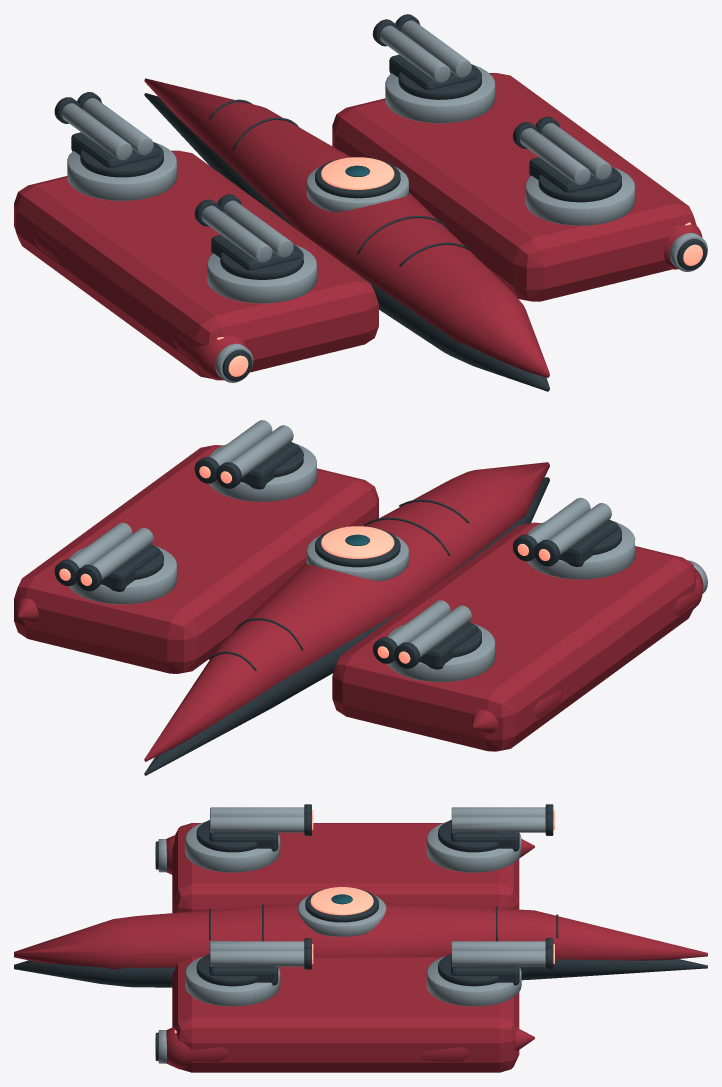
Rendered from boss-1.glb.
The picture shows the model from 3 angles, top to bottom: view 1: azimuth 30°, elevation 25°; view 2: azimuth 150°, elevation 25°; view 3: azimuth 270°, elevation 25°; orthographic projection. The views are drawn at different scales.
Parts seen in each view (by area): view 1: SM_Hull, SM_Weapon_Left, SM_Weapon_Right, SM_Engine_Left, SM_Engine_Right; view 2: SM_Hull, SM_Weapon_Right, SM_Weapon_Left, SM_Engine_Left; view 3: SM_Hull, SM_Weapon_Left, SM_Weapon_Right, SM_Engine_Right, SM_Engine_Left.
Boxes of the visible parts, x1,y1,x2,y2 form: SM_Hull: (14,64,696,391); SM_Weapon_Left: (54,92,299,270); SM_Weapon_Right: (372,14,617,192); SM_Engine_Left: (33,231,253,382); SM_Engine_Right: (664,222,707,271); SM_Hull: (14,442,696,775); SM_Weapon_Right: (54,420,299,591); SM_Weapon_Left: (373,497,617,669); SM_Engine_Left: (471,560,707,733); SM_Hull: (14,820,707,1072); SM_Weapon_Left: (209,804,554,851); SM_Weapon_Right: (209,938,554,985); SM_Engine_Right: (155,1027,534,1069); SM_Engine_Left: (155,833,534,874).
Size of the model in its own units: 6.64 by 1.52 by 9.2.
